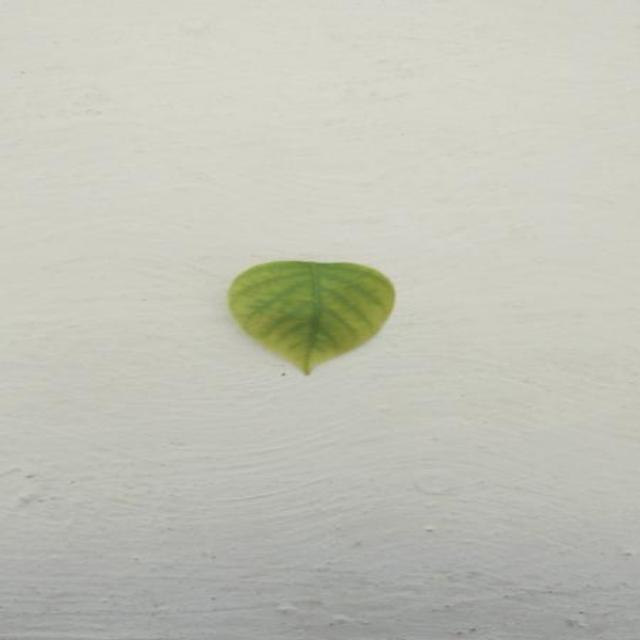honge: (230, 261, 393, 374)
